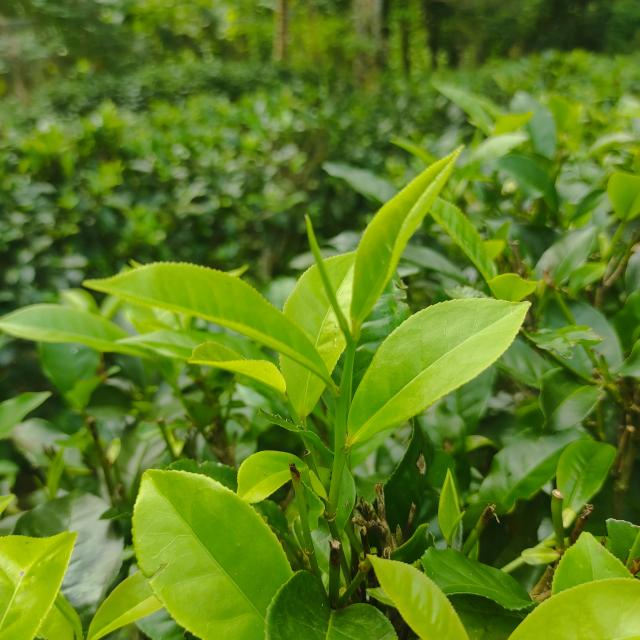unopened_leaf: (296, 200, 358, 350), (444, 504, 476, 554)
